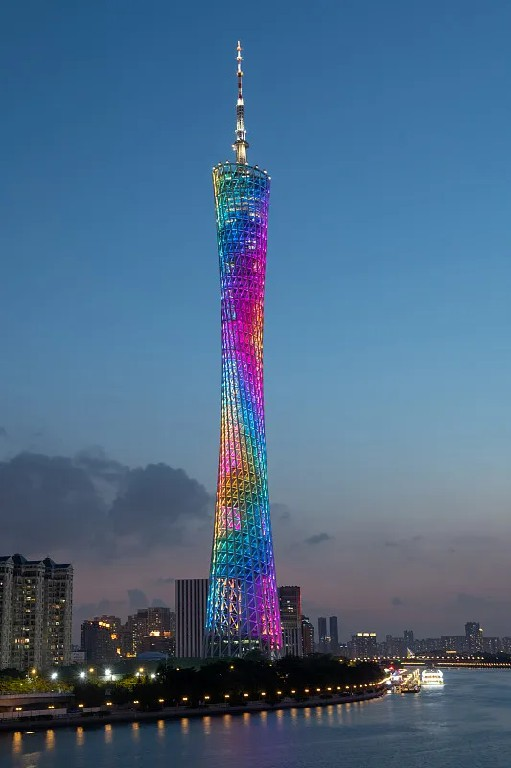Canton: (201, 43, 285, 659)
